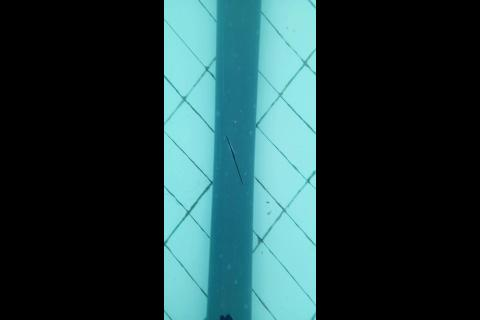kebocoran: (218, 310, 233, 320)
keretakan: (224, 133, 244, 186)
